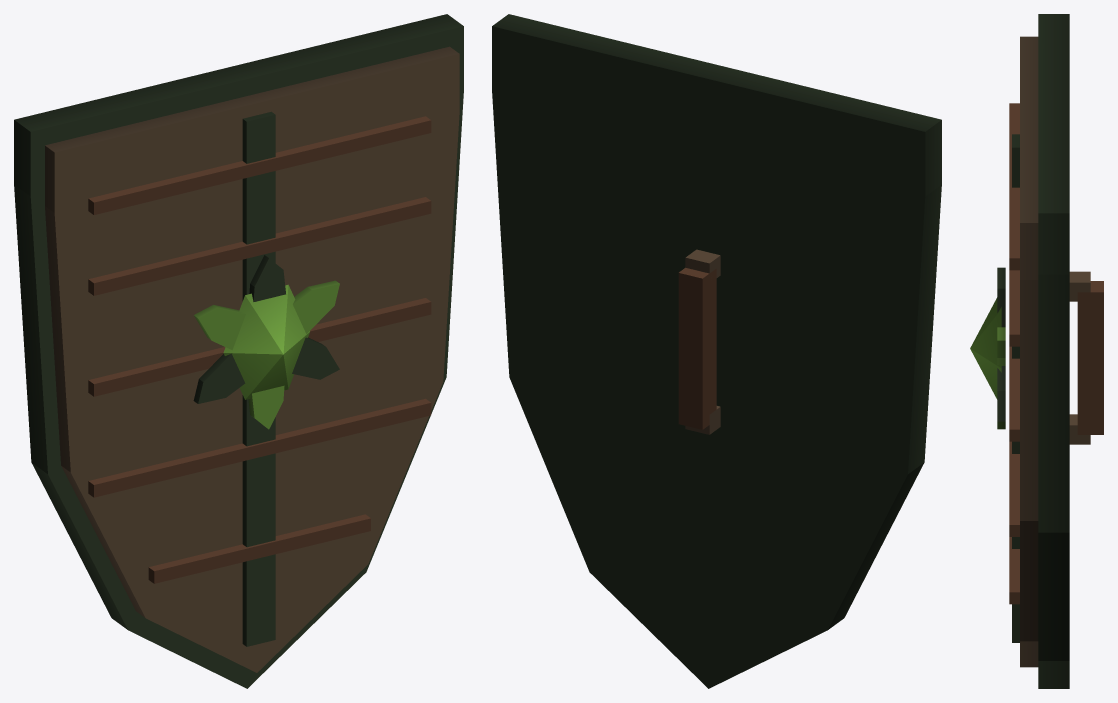
The model's file is uniq_seedheart.gltf.
3 views of the same model, side by side, from view 1: azimuth 30°, elevation 25°; view 2: azimuth 150°, elevation 25°; view 3: azimuth 270°, elevation 25° (orthographic). The views are drawn at different scales.
Visible parts, largest first — view 1: uniq_seedheart; view 2: uniq_seedheart; view 3: uniq_seedheart.
Boxes of the visible parts, x1,y1,x2,y2 form: uniq_seedheart: (14, 14, 463, 688); uniq_seedheart: (492, 14, 941, 688); uniq_seedheart: (970, 14, 1103, 688).
Size of the model in its own units: 0.8988 by 1.21 by 0.255.
Materials: 1 (1 with a texture image).
